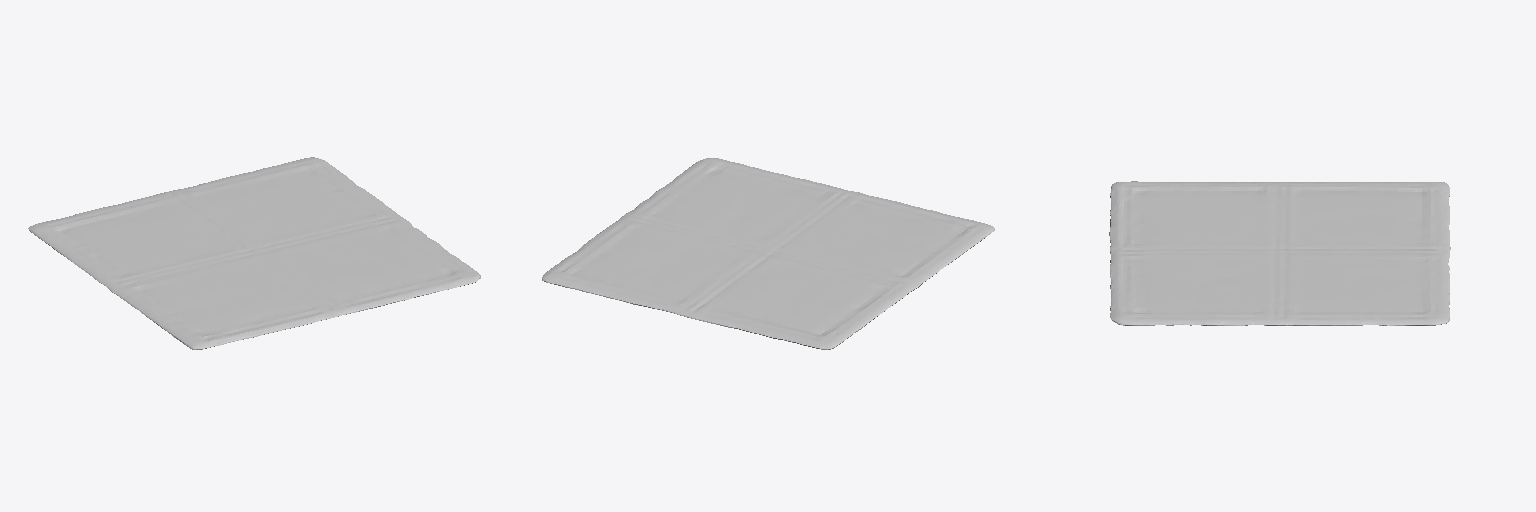
The model's file is f10135e8286f_a_militaristic_squa 1.obj.
3 views of the same model, side by side, from view 1: azimuth 30°, elevation 25°; view 2: azimuth 150°, elevation 25°; view 3: azimuth 270°, elevation 25° (orthographic).
Parts seen in each view (by area): view 1: mesh; view 2: mesh; view 3: mesh.
Part boxes in pixels (left/top/right/bottom): mesh: left=28, top=157, right=480, bottom=349; mesh: left=542, top=158, right=994, bottom=349; mesh: left=1109, top=181, right=1450, bottom=325.
Bounding box in the file's own units: 0.9939 × 0.0322 × 0.9975.